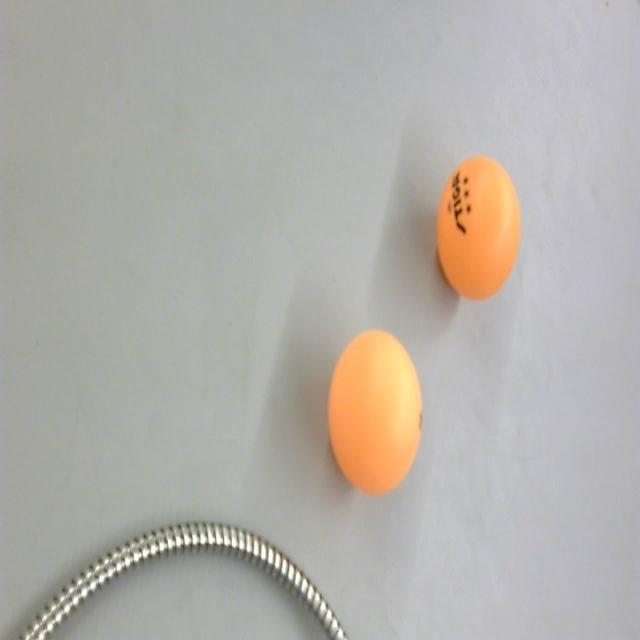ball: (326, 327, 424, 500), (434, 154, 522, 306)
